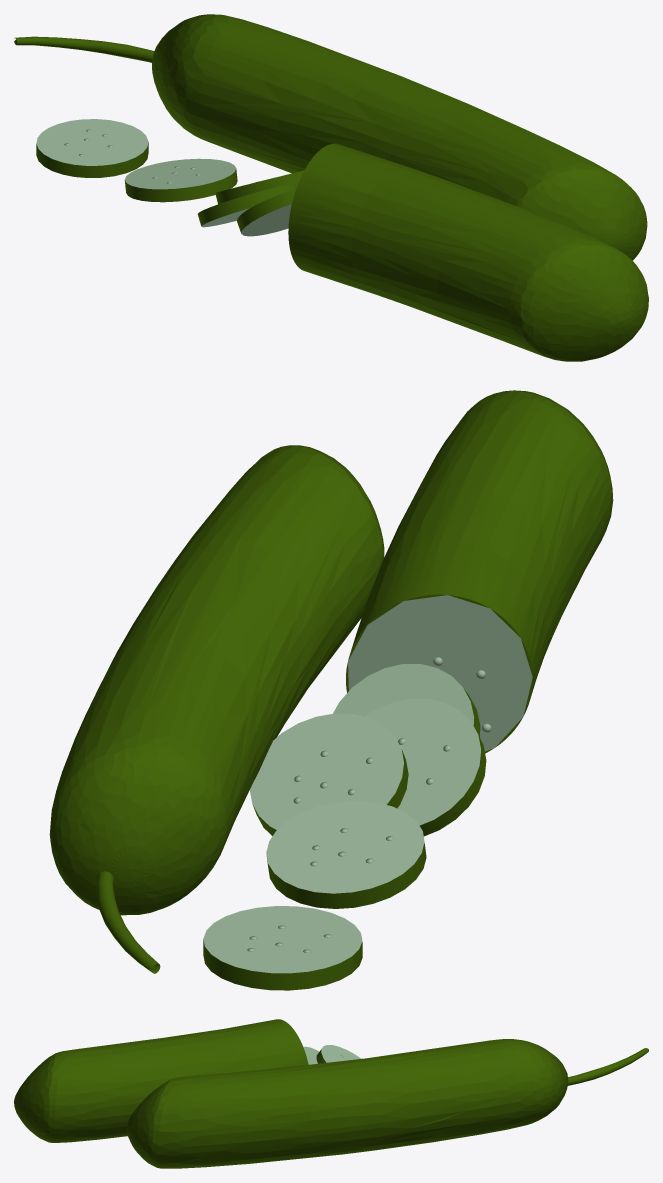
3 renders of one model, top to bottom at view 1: azimuth 30°, elevation 25°; view 2: azimuth 150°, elevation 25°; view 3: azimuth 270°, elevation 25°, orthographic. The views are drawn at different scales.
Parts seen in each view (by area): view 1: Cylinder008, Cylinder013, Cylinder010, Cylinder009, Cylinder014, Line003, Cylinder011, Cylinder012; view 2: Cylinder008, Cylinder013, Cylinder009, Cylinder012, Cylinder010, Cylinder011, Cylinder014, Line003; view 3: Cylinder008, Cylinder013, Line003, Cylinder011.
Part boxes in pixels (x1=…): Cylinder008: x1=152, y1=14, x2=647, y2=260; Cylinder013: x1=288, y1=143, x2=648, y2=361; Cylinder010: x1=36, y1=119, x2=148, y2=177; Cylinder009: x1=124, y1=158, x2=237, y2=202; Cylinder014: x1=237, y1=189, x2=295, y2=236; Line003: x1=14, y1=36, x2=154, y2=62; Cylinder011: x1=197, y1=182, x2=298, y2=227; Cylinder012: x1=215, y1=170, x2=303, y2=204; Cylinder008: x1=49, y1=445, x2=384, y2=915; Cylinder013: x1=346, y1=390, x2=613, y2=753; Cylinder009: x1=266, y1=801, x2=426, y2=908; Cylinder012: x1=250, y1=713, x2=408, y2=835; Cylinder010: x1=203, y1=906, x2=362, y2=990; Cylinder011: x1=365, y1=698, x2=486, y2=836; Cylinder014: x1=333, y1=664, x2=480, y2=737; Line003: x1=96, y1=871, x2=160, y2=973; Cylinder008: x1=126, y1=1039, x2=568, y2=1168; Cylinder013: x1=14, y1=1019, x2=308, y2=1142; Line003: x1=567, y1=1048, x2=648, y2=1085; Cylinder011: x1=316, y1=1045, x2=361, y2=1063.
Size of the model in its own units: 3744 by 1267 by 8611.
